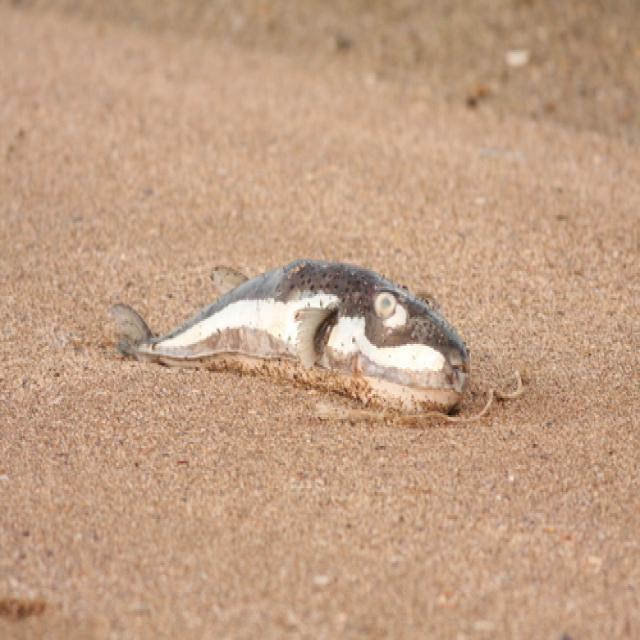Balik: (112, 260, 469, 411)
